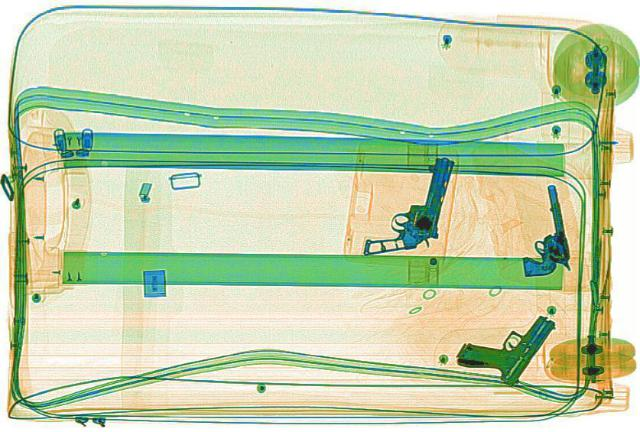Gun: (443, 302, 577, 389), (362, 150, 456, 258), (502, 182, 578, 280)
